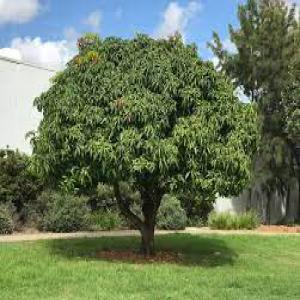Tree: (27, 30, 263, 257)
